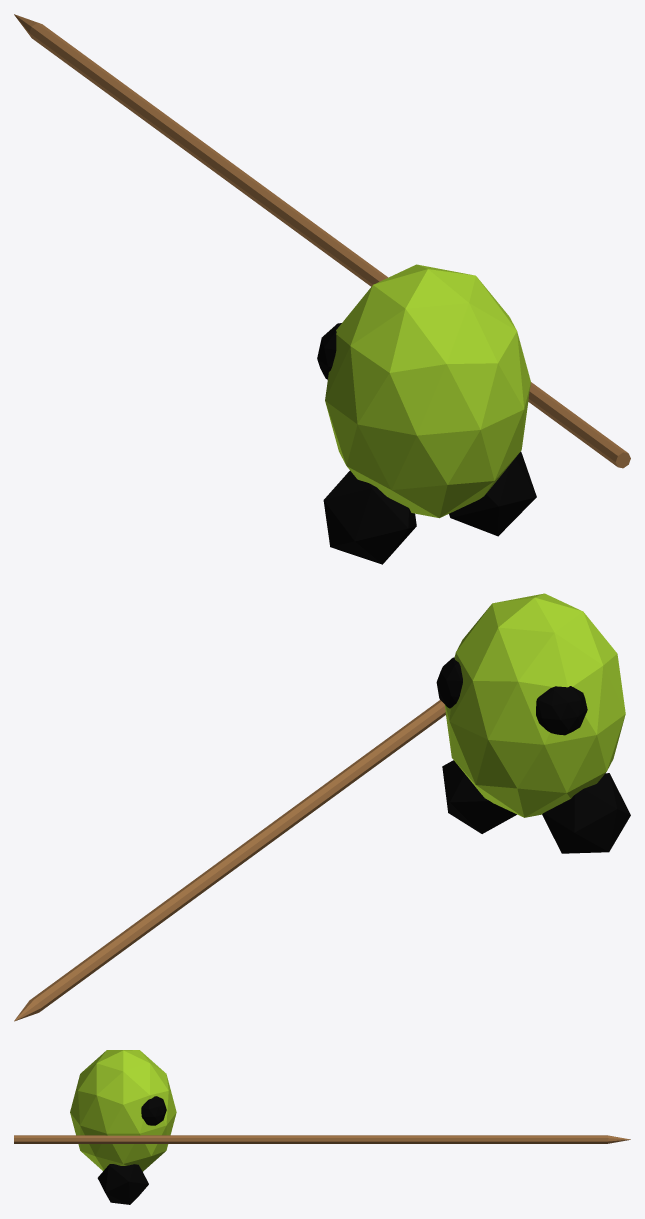
The model's file is stab.f0003.glb.
3 views of the same model, one above another, from view 1: azimuth 30°, elevation 25°; view 2: azimuth 150°, elevation 25°; view 3: azimuth 270°, elevation 25° (orthographic). The views are drawn at different scales.
Visible parts, largest first — view 1: Body.001; view 2: Body.001; view 3: Body.001.
Part boxes in pixels (x1,y1,x2,y2): Body.001: (14, 14, 630, 564); Body.001: (14, 593, 630, 1021); Body.001: (14, 1050, 630, 1204).
Size of the model in its own units: 2.17 by 2.85 by 11.56.
Materials: 1 (1 with a texture image).
